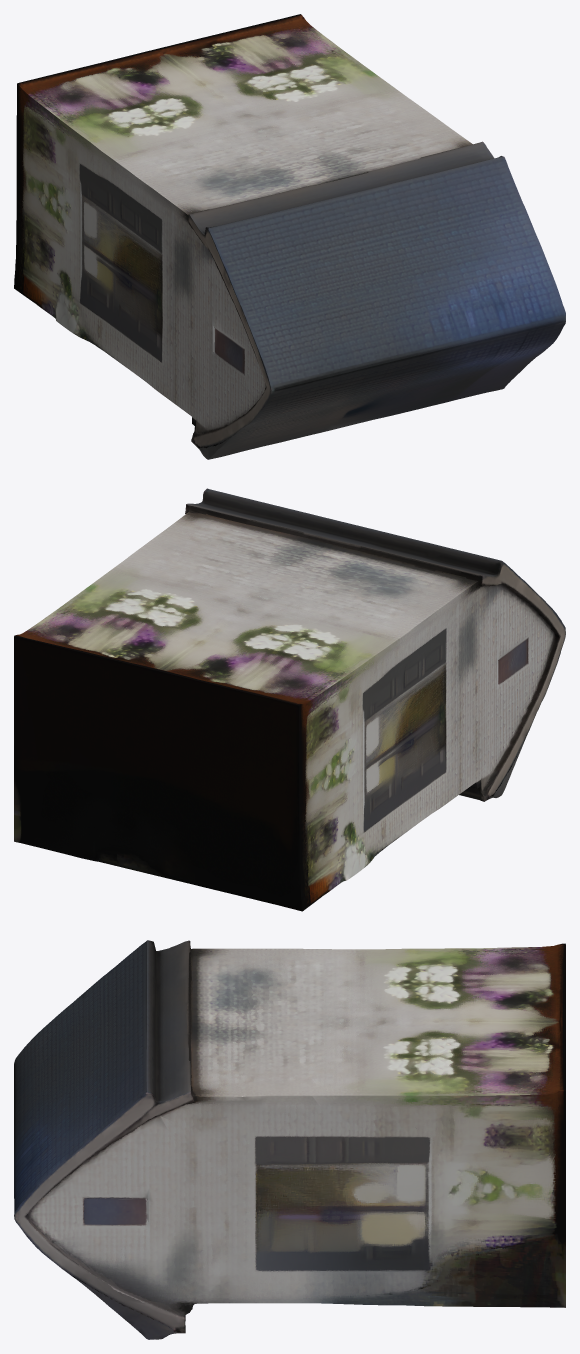
The model's file is out_sim.glb.
The picture shows the model from 3 angles, top to bottom: view 1: azimuth 30°, elevation 25°; view 2: azimuth 150°, elevation 25°; view 3: azimuth 270°, elevation 25°; orthographic projection. The views are drawn at different scales.
Visible parts, largest first — view 1: world; view 2: world; view 3: world.
Part boxes in pixels (left/top/right/bottom): world: left=14, top=14, right=565, bottom=459; world: left=14, top=488, right=565, bottom=911; world: left=14, top=940, right=565, bottom=1339.
Size of the model in its own units: 0.6574 by 0.495 by 1.
1 material, 1 textured.
